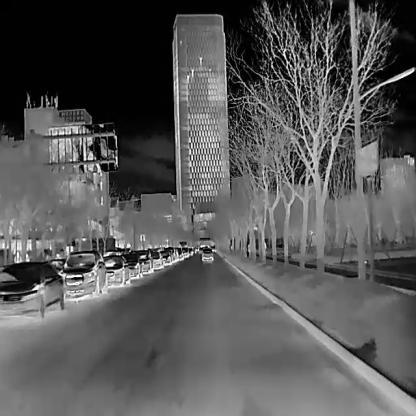car: (0, 260, 64, 321), (62, 249, 108, 298), (101, 254, 131, 286), (124, 252, 143, 279), (135, 248, 153, 275), (152, 249, 163, 270), (200, 246, 213, 263), (162, 247, 172, 265)
